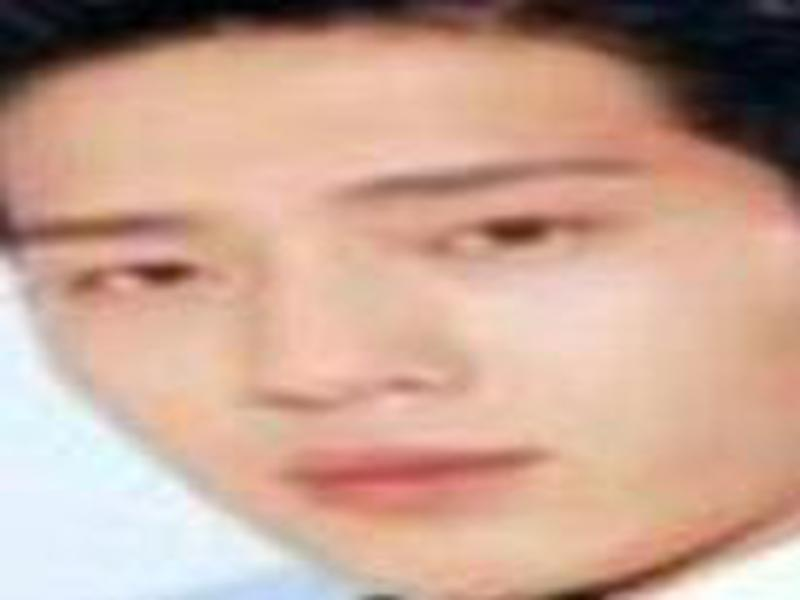without_mask: (2, 67, 789, 593)
